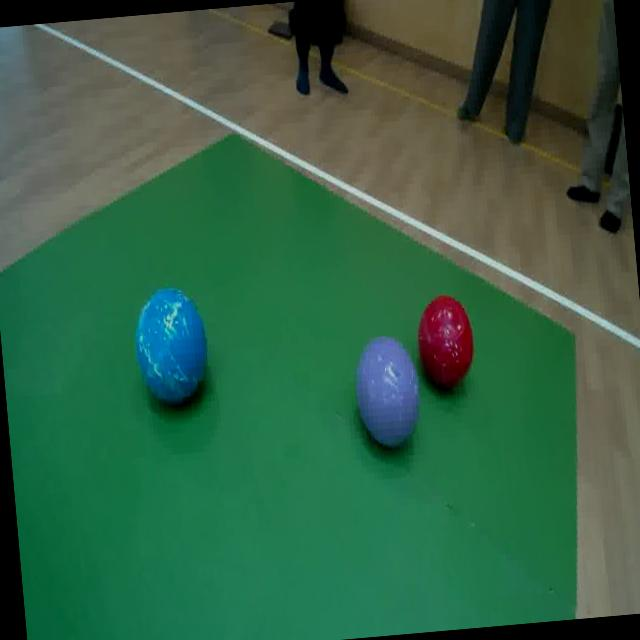blue_ball: (133, 291, 215, 408)
purple_ball: (349, 332, 425, 453)
red_ball: (414, 287, 479, 396)
